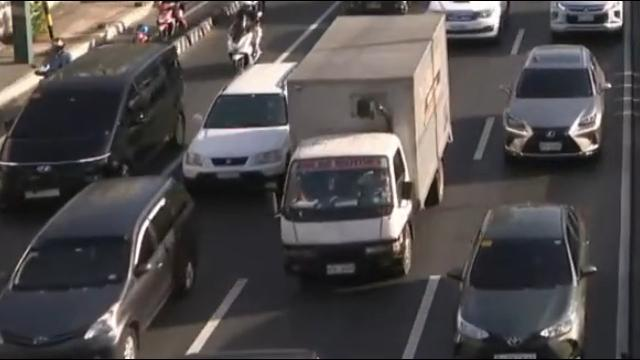car: (0, 175, 199, 360), (450, 202, 598, 360), (176, 46, 307, 204), (493, 40, 613, 167), (430, 1, 511, 42), (548, 1, 625, 37)
motorcycle: (218, 0, 277, 77), (29, 28, 76, 84), (147, 0, 196, 41)
truck: (277, 12, 454, 291)
van: (0, 33, 199, 204)
